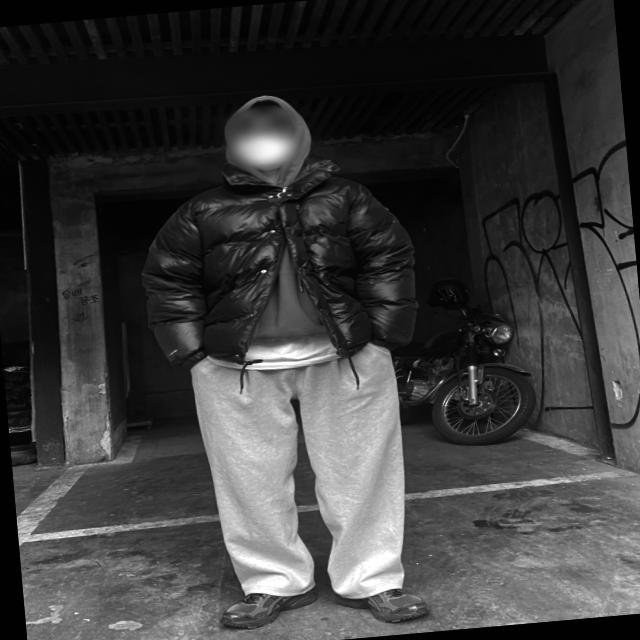padding: (134, 147, 427, 376)
trainingpants: (186, 337, 413, 609)
